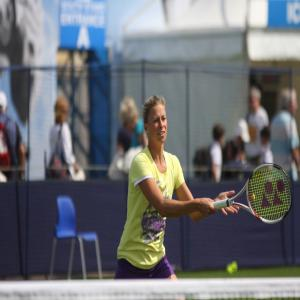TennisBall: (233, 261, 238, 273)
